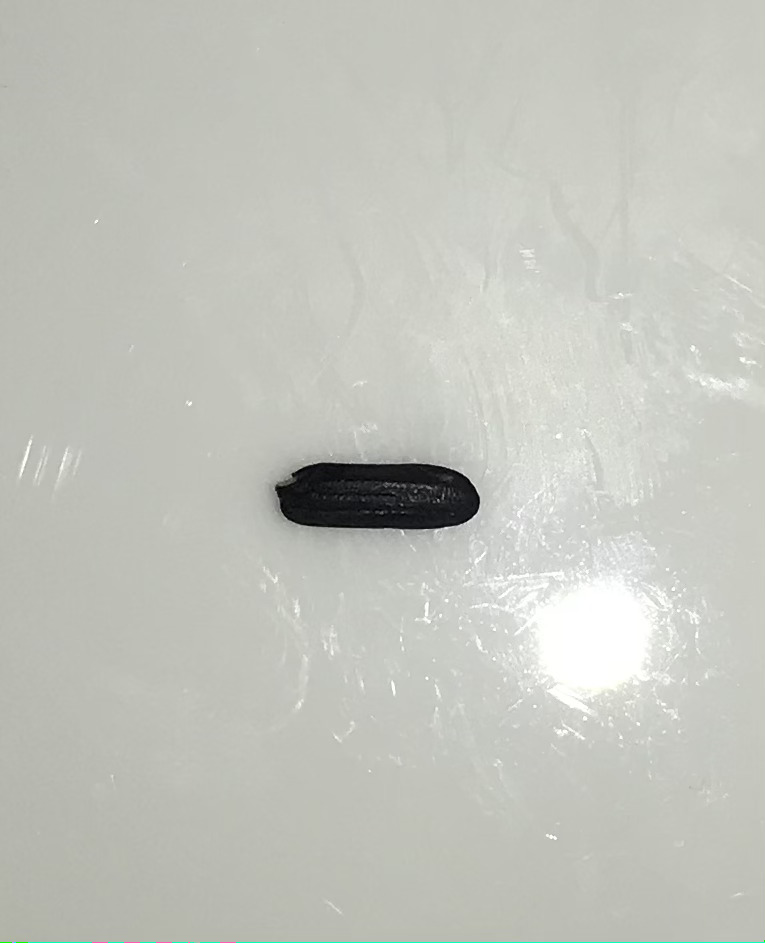Gao lut: (272, 462, 484, 533)
